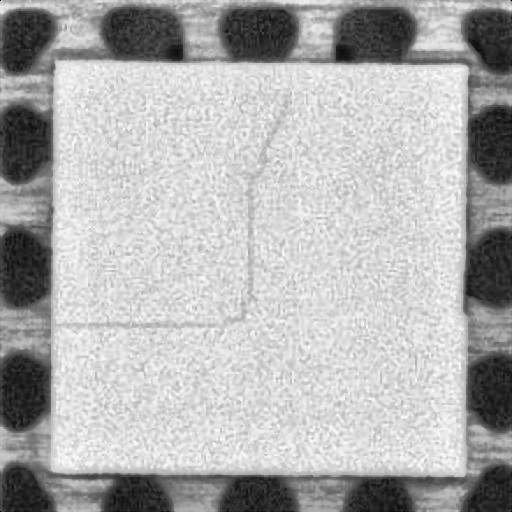DIE_CRACK: (52, 100, 288, 328)
